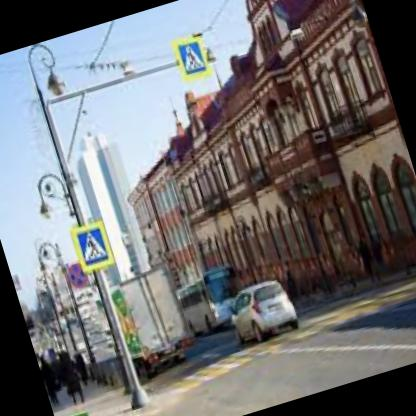crosswalk: (76, 224, 110, 264), (179, 38, 207, 72)
